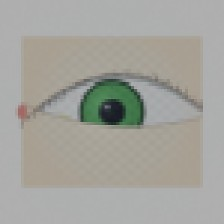pinguecula_lesion: (43, 105, 82, 135)
